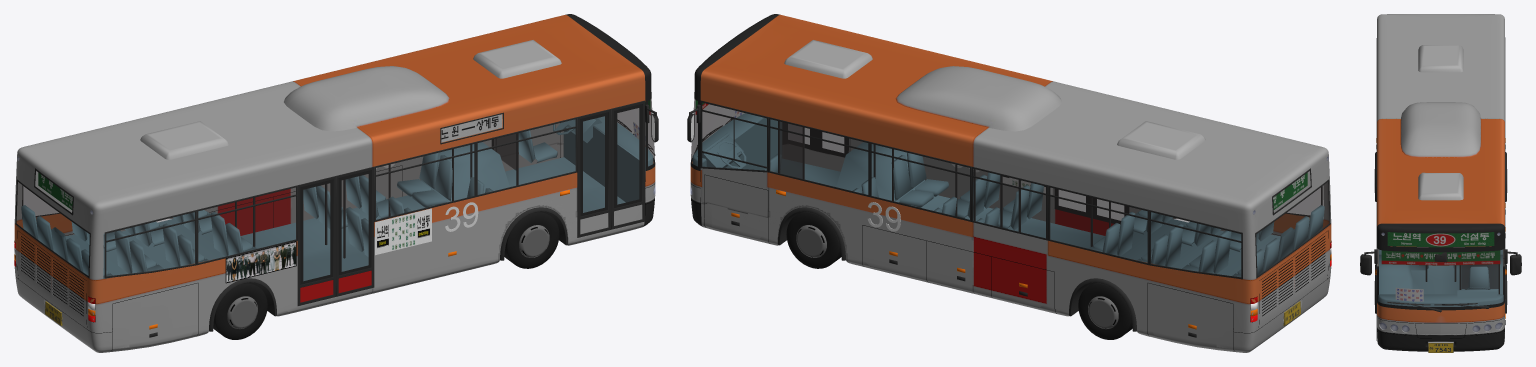
Rendered from Korean Bus-2.FBX.
3 renders of one model, left to right at view 1: azimuth 30°, elevation 25°; view 2: azimuth 150°, elevation 25°; view 3: azimuth 270°, elevation 25°, orthographic. The views are drawn at different scales.
Parts seen in each view (by area): view 1: body, Group02, interior, plastic, glassblk, body_blk, tyre, Box02, black, Box04, wheel; view 2: body, Group02, interior, plastic, body_blk, tyre, black, glassblk, wheel; view 3: body, Group02, interior, glassblk, body_blk, plastic, text02, text, Plane02, chrome, Box08, headlght (+1 smaller).
Part boxes in pixels (x1,y1,x2,y2): body: (14, 14, 655, 352); Group02: (16, 99, 654, 280); interior: (21, 116, 653, 280); plastic: (15, 100, 658, 337); glassblk: (300, 14, 655, 284); body_blk: (140, 40, 561, 159); tyre: (213, 211, 559, 339); Box02: (375, 208, 431, 255); black: (14, 135, 654, 350); Box04: (225, 241, 296, 283); wheel: (227, 225, 549, 328); body: (690, 14, 1331, 352); Group02: (691, 99, 1329, 276); interior: (692, 113, 1324, 277); plastic: (687, 100, 1330, 337); body_blk: (784, 40, 1205, 159); tyre: (786, 211, 1132, 339); black: (691, 171, 1331, 350); glassblk: (690, 14, 1128, 224); wheel: (796, 225, 1118, 328); body: (1377, 14, 1504, 351); Group02: (1377, 232, 1504, 306); interior: (1378, 249, 1503, 306); glassblk: (1377, 223, 1504, 310); body_blk: (1418, 45, 1463, 200); plastic: (1360, 37, 1521, 340); text02: (1381, 250, 1500, 265); text: (1387, 232, 1494, 247); Plane02: (1395, 287, 1423, 301); chrome: (1379, 232, 1502, 346); Box08: (1428, 343, 1453, 352); headlght: (1380, 233, 1501, 331).
Size of the model in its own units: 13.64 by 4.18 by 4.2.
